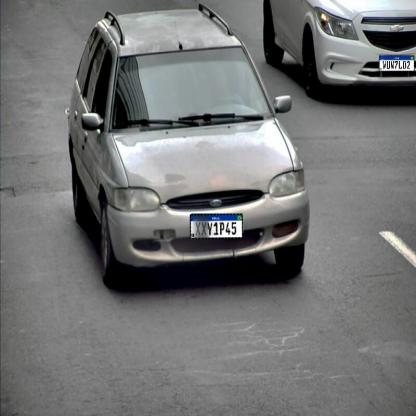PlacaM: (190, 214, 243, 239), (379, 56, 415, 72)
